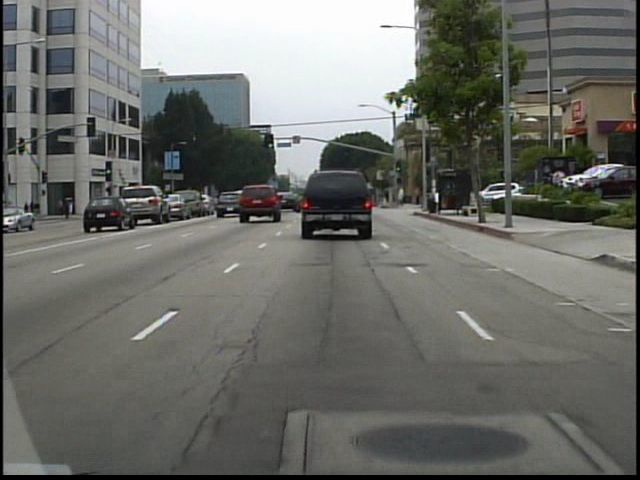person: (396, 184, 409, 208), (413, 181, 424, 208), (383, 184, 390, 205)
